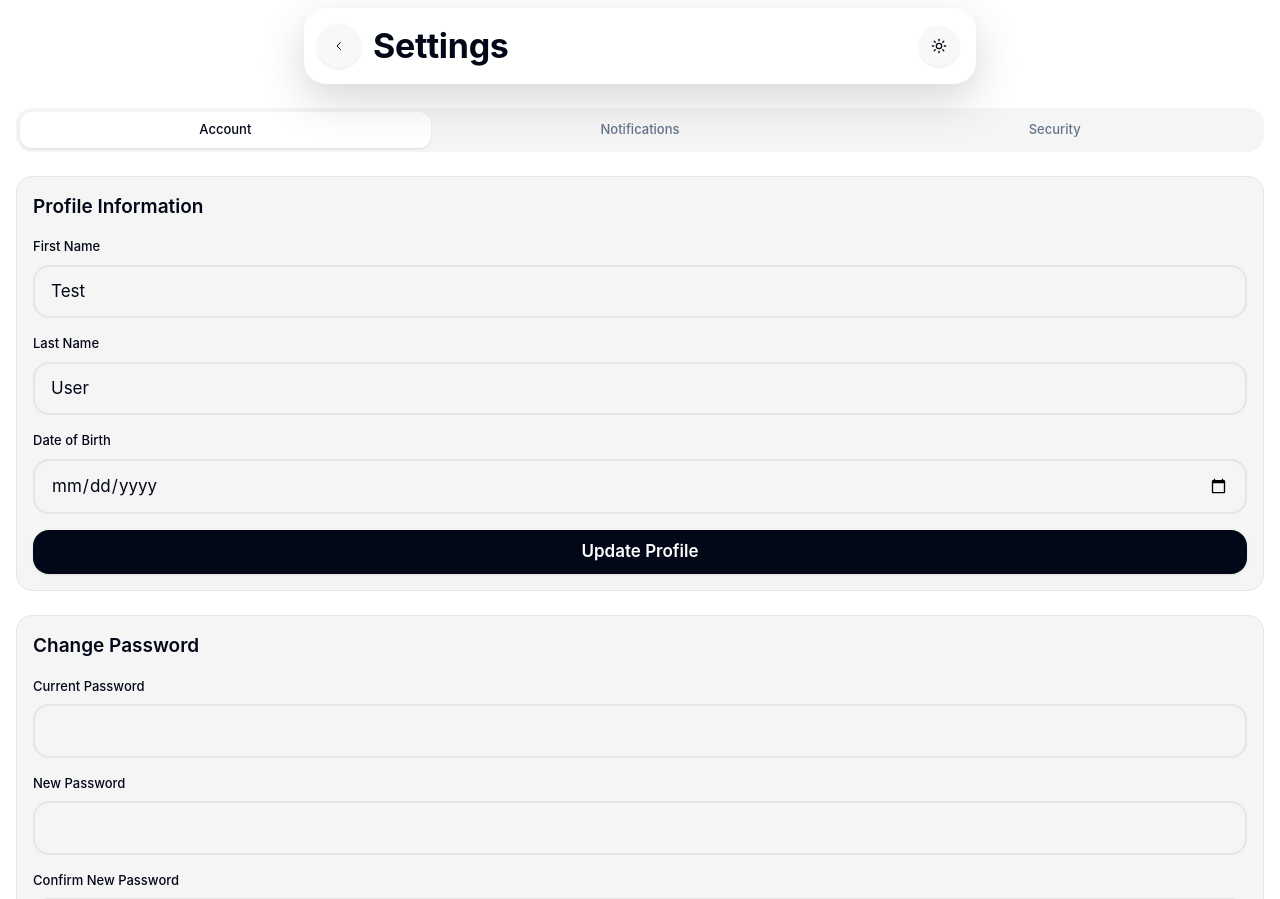
SettingsPage › switches between sections
// Click notifications tab
Click the tab "Notifications". click: (640, 130)
box: [435,112,845,148]
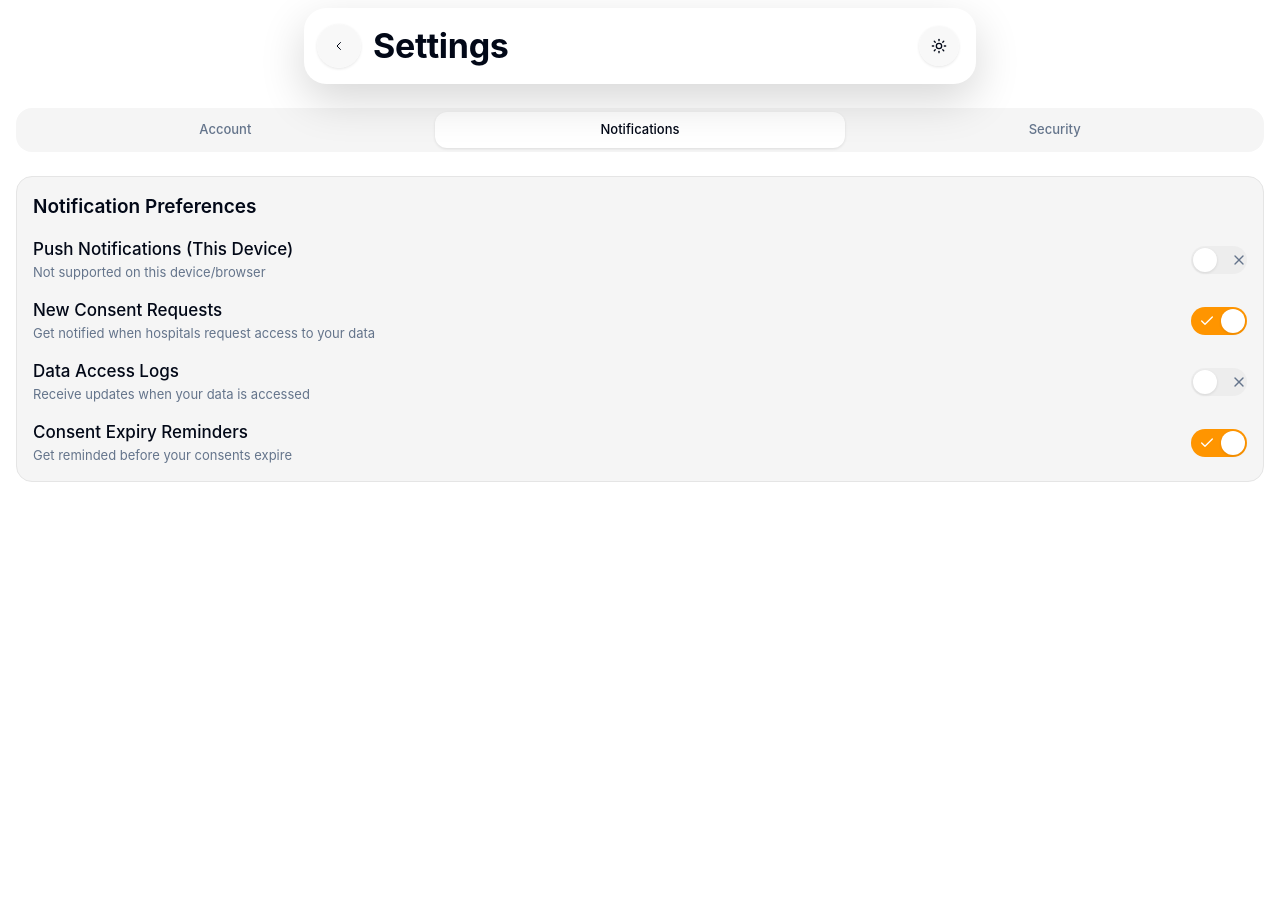
Expected: the heading "Notification Preferences" is shown, [33,194,256,218]
// Click security tab
Click the tab "Security". click: (1055, 130)
box: [849,112,1260,148]
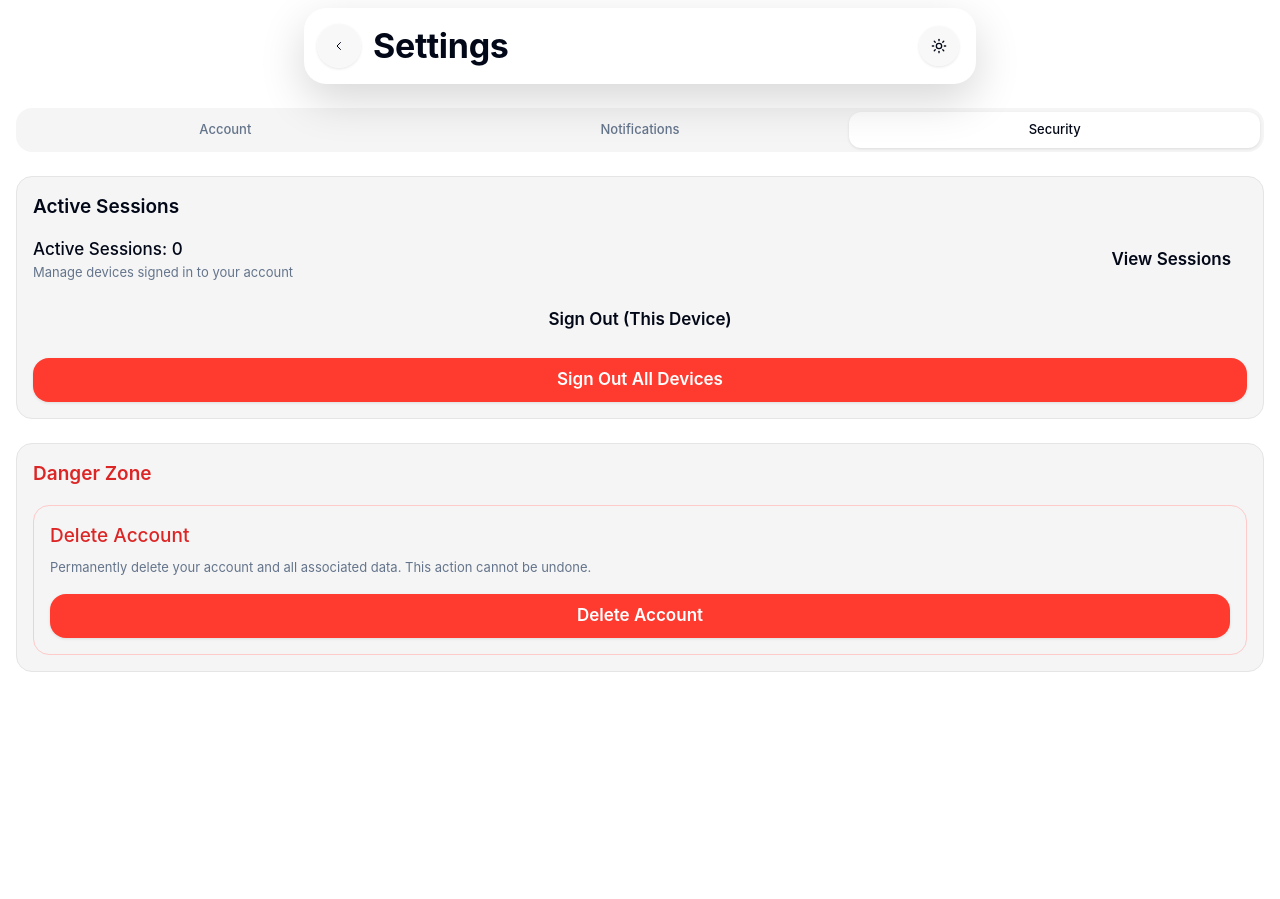
Expected: the heading "Active Sessions" is shown, [33,194,179,218]
Expected: the text "Active Sessions: 0" is shown, [33,239,183,259]
